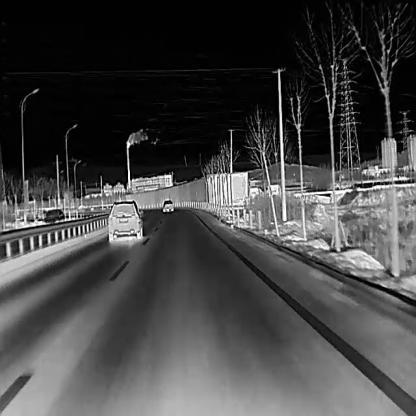car: (106, 198, 142, 242), (41, 207, 64, 227), (161, 198, 172, 212)
